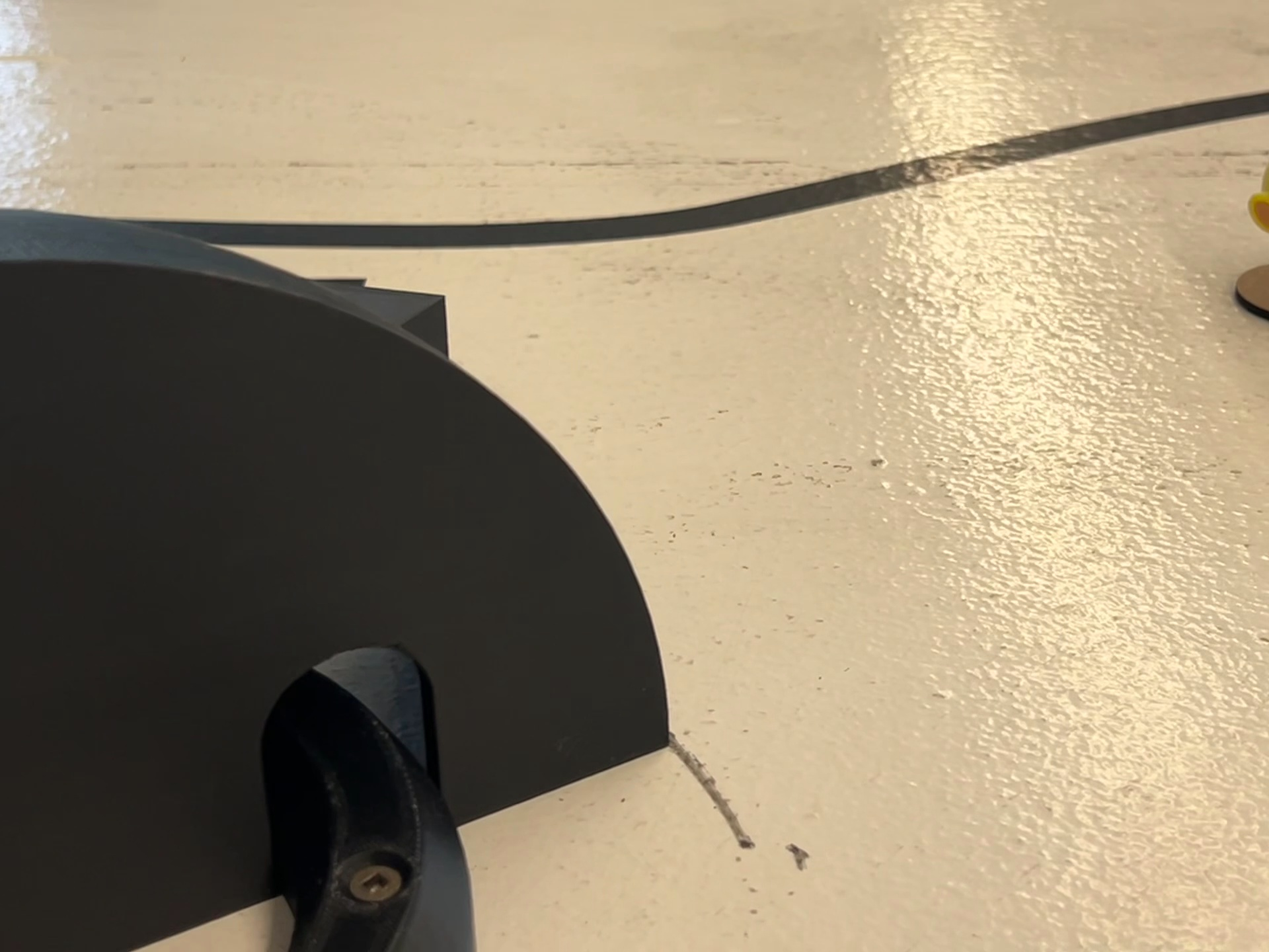teletubby: (1249, 168, 1268, 232)
